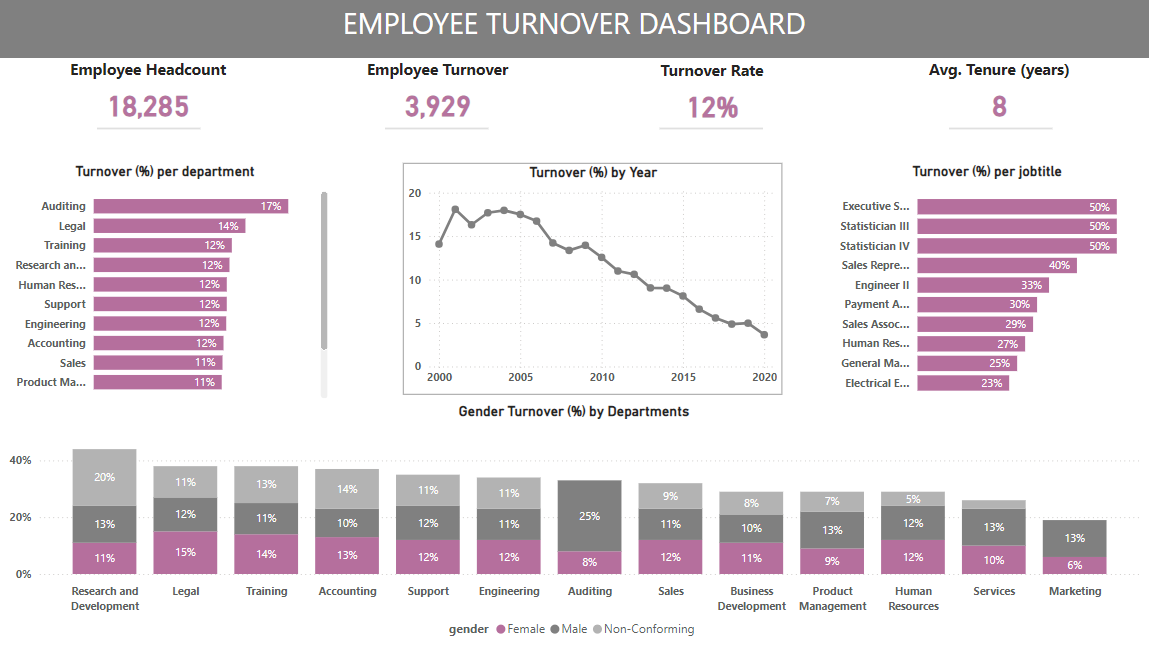

This screenshot's page, from the dashboard's own definition file:
{"tool":"powerbi","page":{"name":"Employee Turnover ","canvas":[1280,720],"ordinal":1},"visuals":[{"type":"textbox","box":[0,0,1280.4,66.8],"z":0},{"type":"card","title":"Avg. Tenure (years)","fields":{"Values":["Sum(avg_length_employment.avg_length_employment)"]},"box":[951.7,66.7,321.7,78.3],"z":0,"group":"g1"},{"type":"card","title":"Turnover Rate","fields":{"Values":["Avg(turnover_rate.termination_rate)"]},"box":[635,68.4,316.7,76.7],"z":1000,"group":"g1"},{"type":"clusteredBarChart","title":"Turnover (%) per department","fields":{"Category":["turnover_rate.department"],"Y":["Sum(turnover_rate.termination_rate)"]},"box":[0,183.8,371.2,266.2],"z":1000},{"type":"card","title":"Employee Turnover","fields":{"Values":["Sum(Terminated employees.count(*))"]},"box":[328.4,66.7,320,78.3],"z":2000,"group":"g1"},{"type":"clusteredBarChart","title":"Turnover (%) per jobtitle","fields":{"Category":["Jobtitle turnover.jobtitle"],"Y":["Sum(Jobtitle turnover.termination_rate)"]},"box":[918.3,183.3,361.7,266.7],"z":2000},{"type":"card","title":"Employee Headcount","fields":{"Values":["Sum(No  of Existing Employees.count(*))"]},"box":[6.7,66.7,320,78.3],"z":3000,"group":"g1"},{"type":"columnChart","title":"Gender Turnover (%) by Departments","fields":{"Category":["gender_turnover_department.department"],"Series":["gender_turnover_department.gender"],"Y":["Sum(gender_turnover_department.termination_rate)"]},"box":[6.7,450,1266.7,270],"z":3000},{"type":"group","id":"g1","title":"Group 1","box":[6.7,66.7,1266.7,78.3],"z":4000},{"type":"shape","box":[1056.7,133.3,115,23.3],"z":5000},{"type":"shape","box":[110,133.3,115,23.3],"z":6000},{"type":"shape","box":[430,133.3,115,23.3],"z":7000},{"type":"shape","box":[735,133.3,115,23.3],"z":8000},{"type":"lineChart","title":"Turnover (%) by Year","fields":{"Category":["Year_Turnover _rate.year"],"Y":["Sum(Year_Turnover _rate.turnover_rate_percent)"]},"box":[450,182.9,421.4,257.1],"z":9000}]}

Visuals, with their boxes in screenshot pixels (x1, y1, x2, y2), scaled from the page's 1280x720 canvas onto the 1149x645 screenshot:
textbox: [x1=0, y1=0, x2=1148, y2=60]
"Avg. Tenure (years)" card: [x1=854, y1=60, x2=1143, y2=130]
"Turnover Rate" card: [x1=570, y1=61, x2=854, y2=130]
"Turnover (%) per department" clusteredBarChart: [x1=0, y1=165, x2=333, y2=403]
"Employee Turnover" card: [x1=295, y1=60, x2=582, y2=130]
"Turnover (%) per jobtitle" clusteredBarChart: [x1=824, y1=164, x2=1148, y2=403]
"Employee Headcount" card: [x1=6, y1=60, x2=293, y2=130]
"Gender Turnover (%) by Departments" columnChart: [x1=6, y1=403, x2=1143, y2=644]
"Group 1" group: [x1=6, y1=60, x2=1143, y2=130]
shape: [x1=949, y1=119, x2=1052, y2=140]
shape: [x1=99, y1=119, x2=202, y2=140]
shape: [x1=386, y1=119, x2=489, y2=140]
shape: [x1=660, y1=119, x2=763, y2=140]
"Turnover (%) by Year" lineChart: [x1=404, y1=164, x2=782, y2=394]
